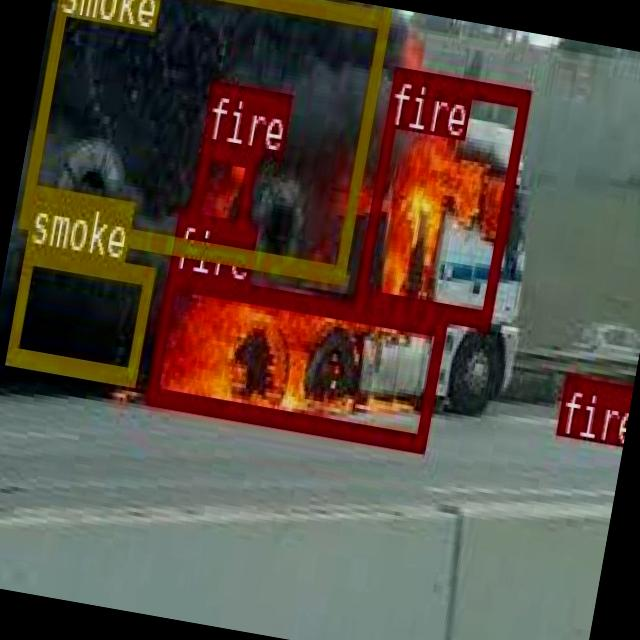fire: (144, 269, 444, 448), (353, 63, 530, 324), (184, 136, 256, 242), (560, 372, 614, 416)
smoke: (16, 0, 389, 280), (5, 244, 154, 380)
